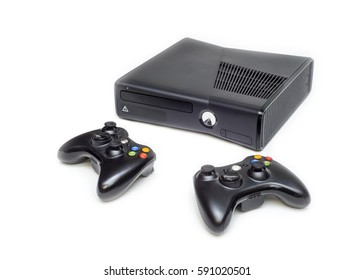gamingconsole: (192, 154, 312, 232), (54, 123, 156, 198)
